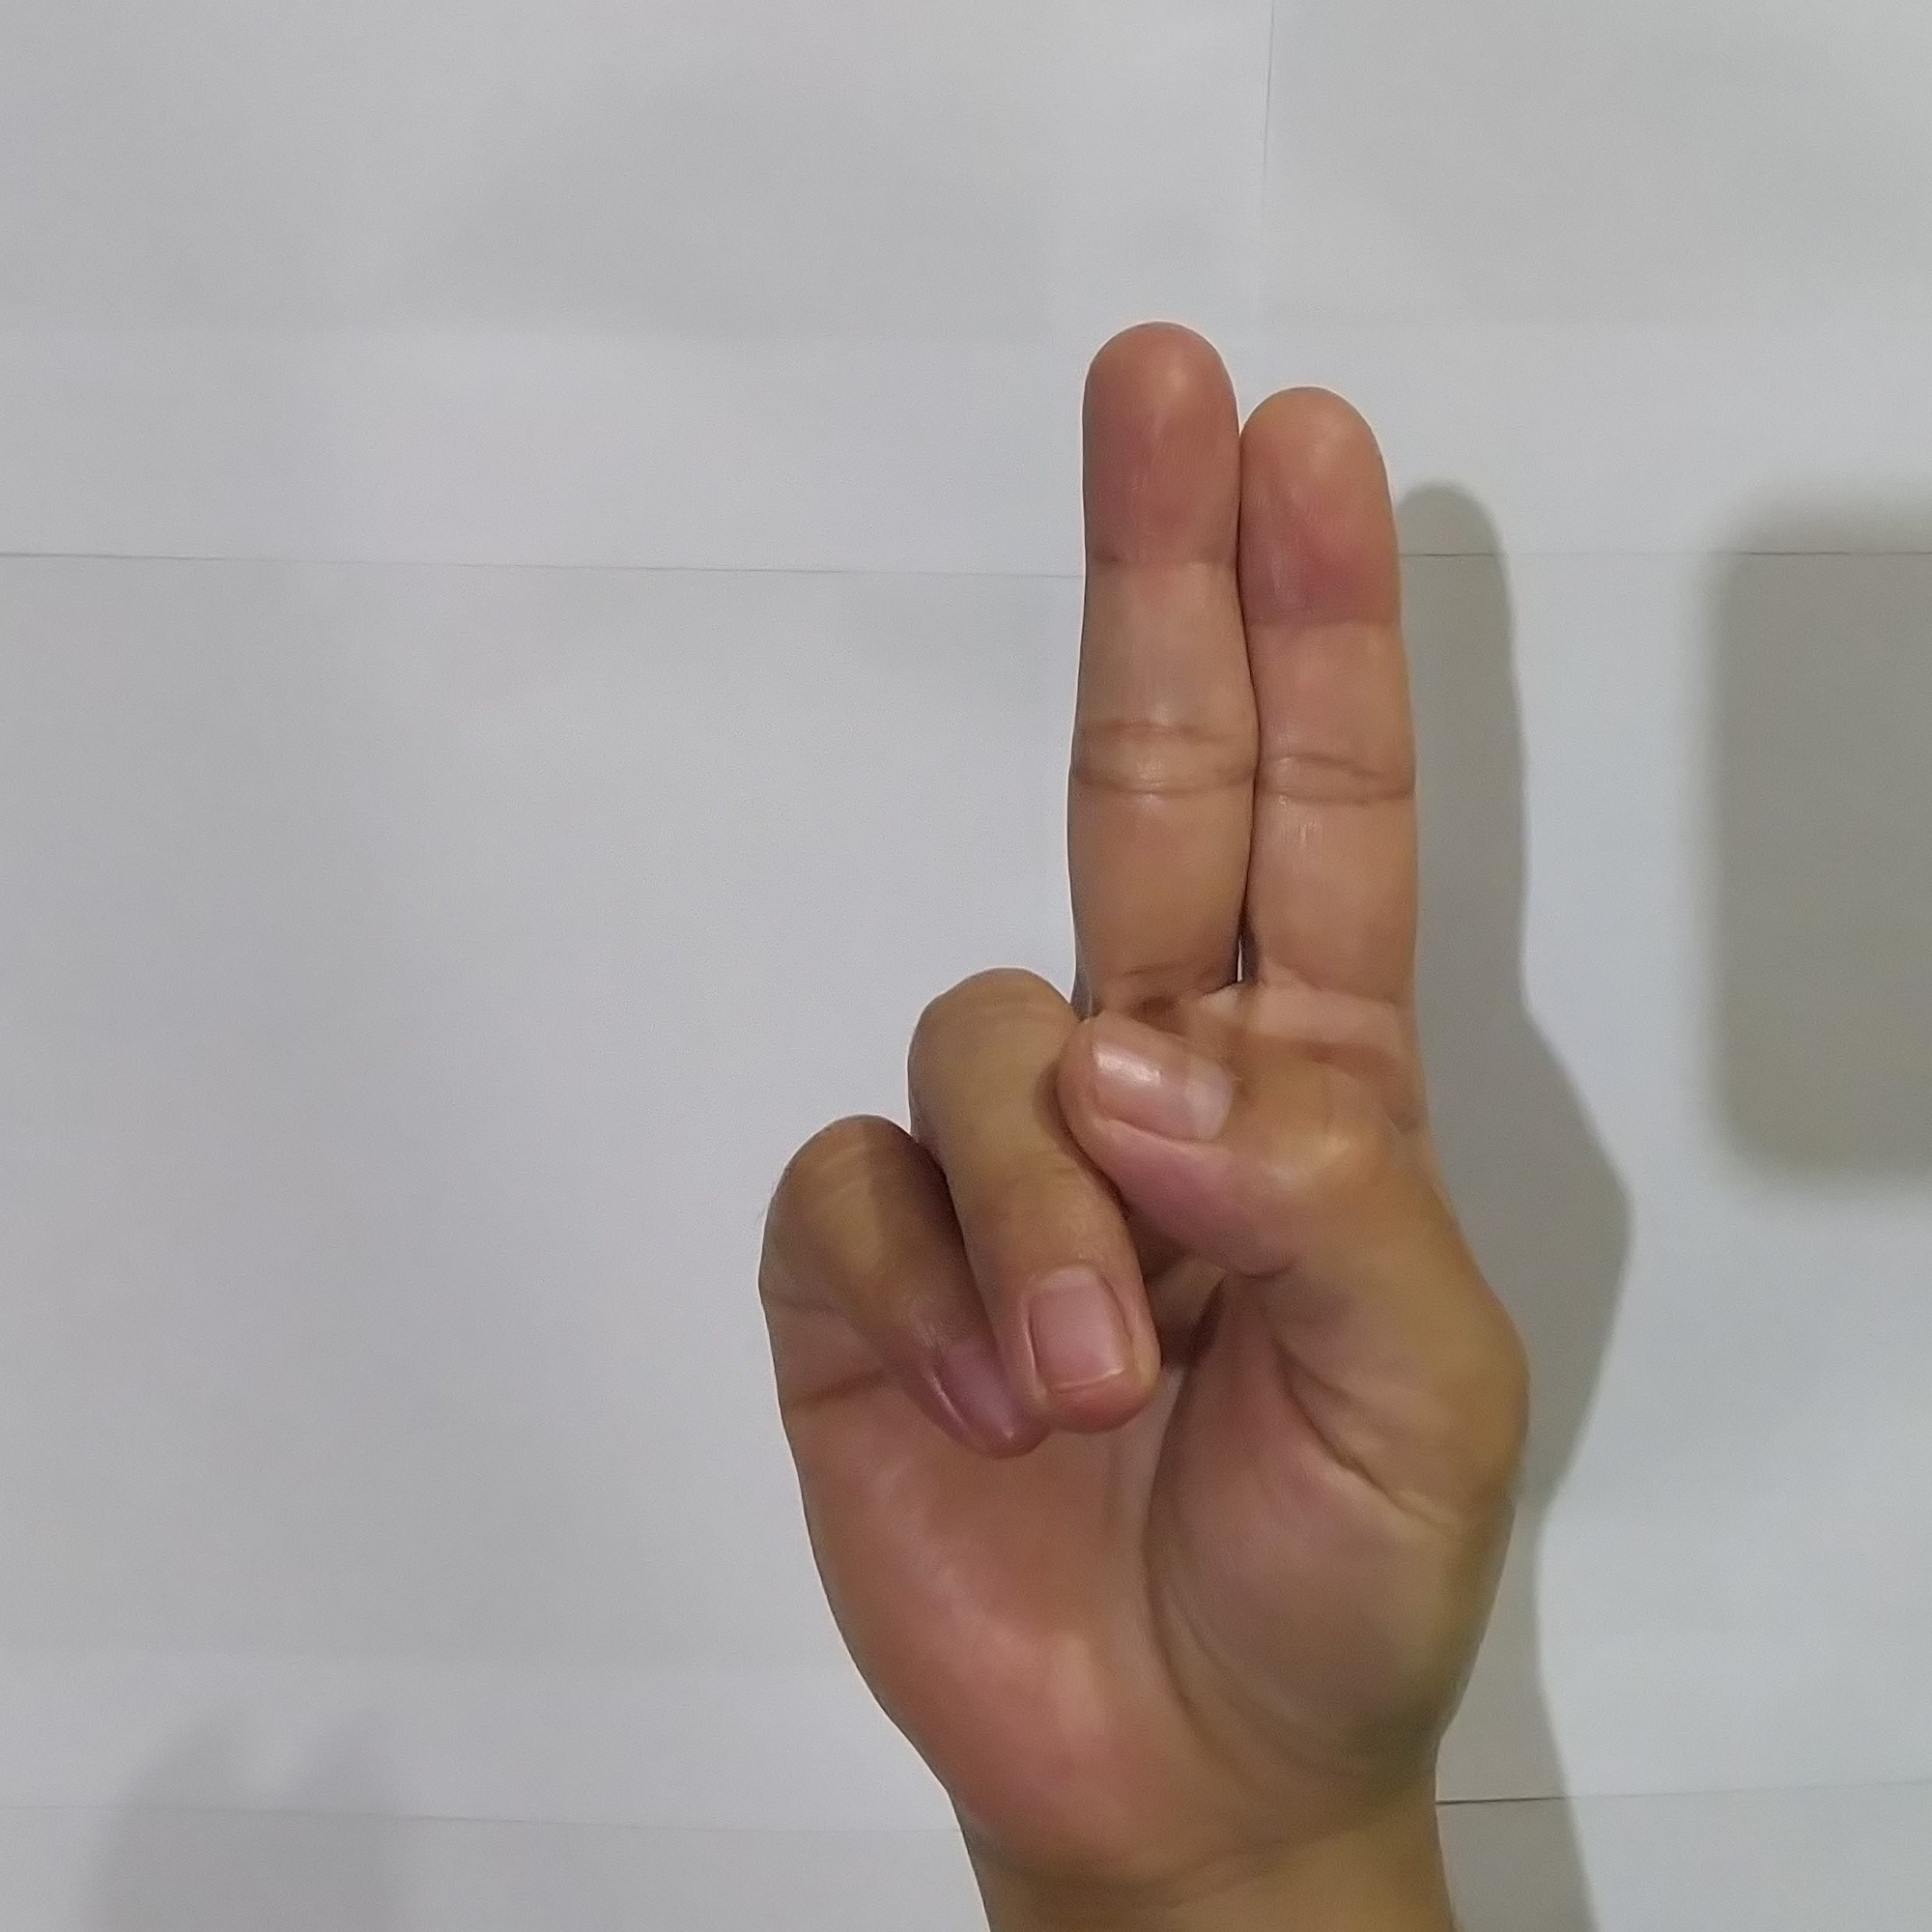U: (724, 294, 1569, 1858)
